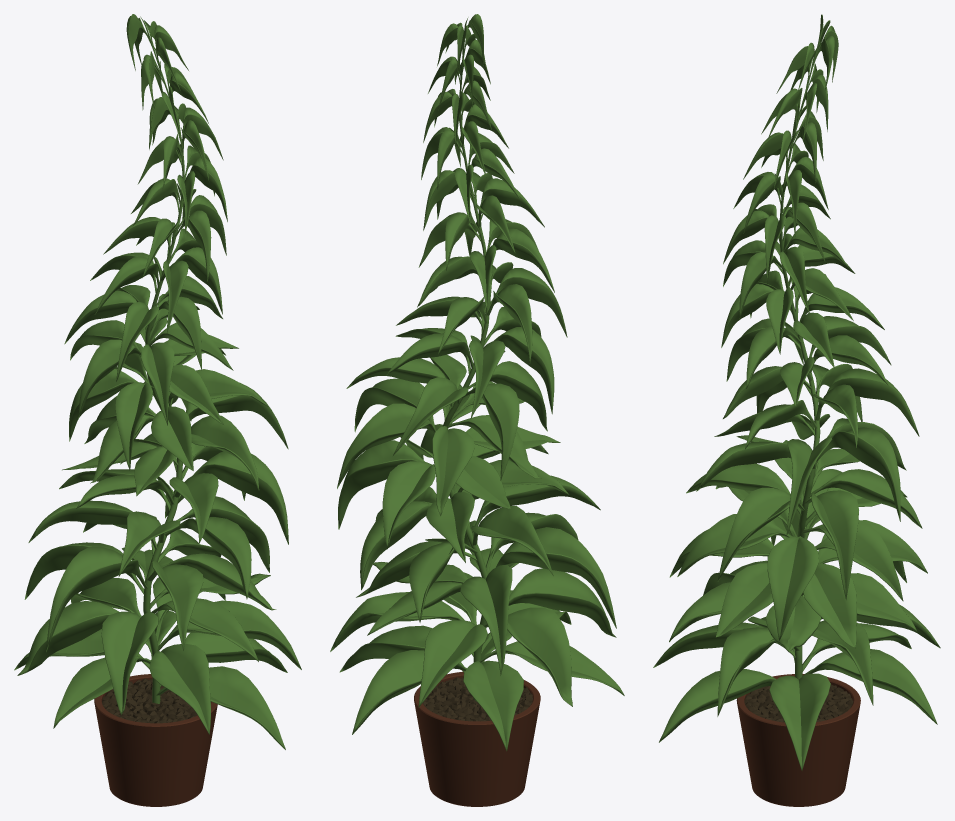
File: Office_Plant.gltf
3 views of the same model, side by side, from view 1: azimuth 30°, elevation 25°; view 2: azimuth 150°, elevation 25°; view 3: azimuth 270°, elevation 25° (orthographic). The views are drawn at different scales.
Parts seen in each view (by area): view 1: Office Plant; view 2: Office Plant; view 3: Office Plant.
Part boxes in pixels (left/top/right/bottom): Office Plant: left=14, top=14, right=301, bottom=806; Office Plant: left=330, top=14, right=624, bottom=806; Office Plant: left=653, top=14, right=940, bottom=806.
Bounding box in the file's own units: 1.67 × 4.79 × 1.62.
